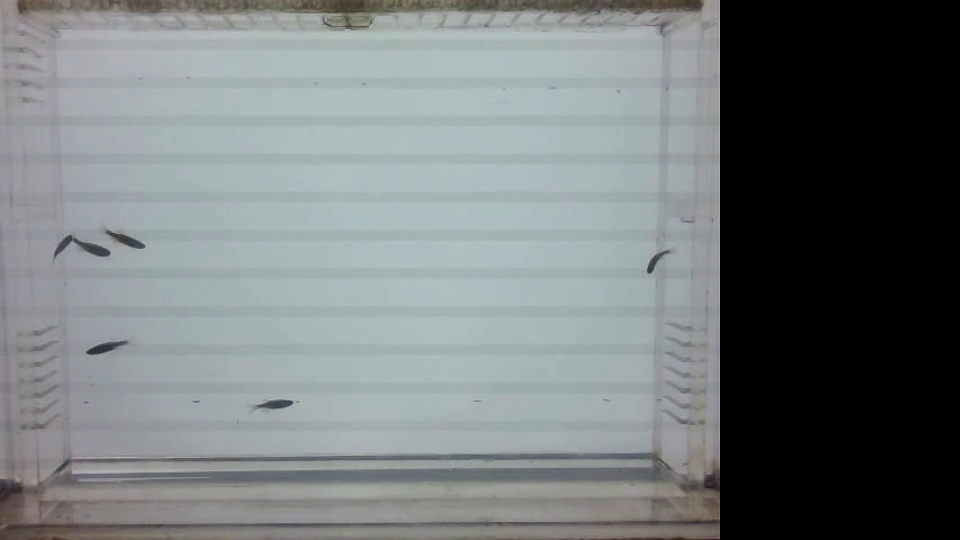fish: (248, 393, 304, 417), (102, 224, 148, 253), (640, 241, 676, 276), (81, 340, 133, 364), (49, 228, 73, 268), (72, 240, 108, 265)
